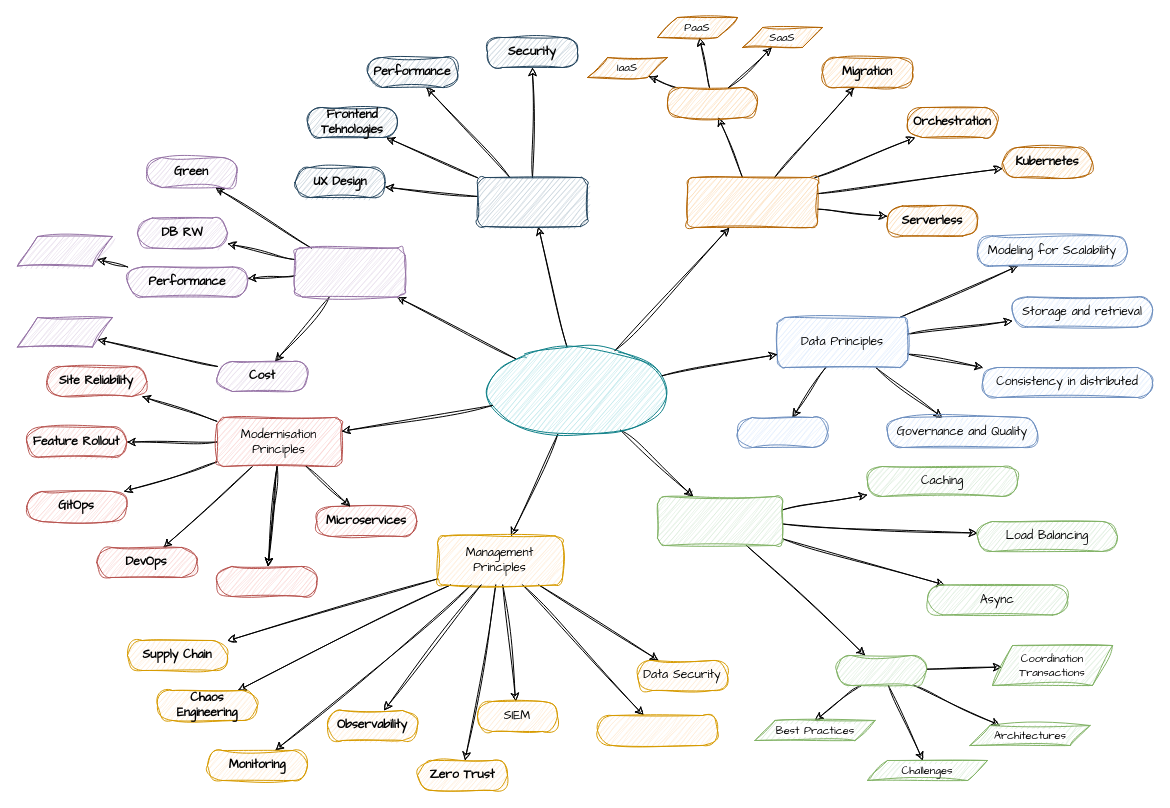
Some shapes in this 1170 by 808 pixel diagram are drawn without their labels. The shapes that lost their labels are listed below. From the top down, each one's centre as x and y in pixels, then its label:
At (x=712, y=102): "Models".
At (x=532, y=201): "Presentation".
At (x=752, y=202): "Cloud and Containers".
At (x=64, y=251): "Tuning".
At (x=349, y=272): "Optimization Principles".
At (x=64, y=331): "Multicloud".
At (x=577, y=391): "Solution Design".
At (x=782, y=432): "Events".
At (x=719, y=521): "Runtime Principles".
At (x=266, y=581): "Polyglot".
At (x=881, y=670): "Distributed".
At (x=657, y=730): "Identity and Access".
